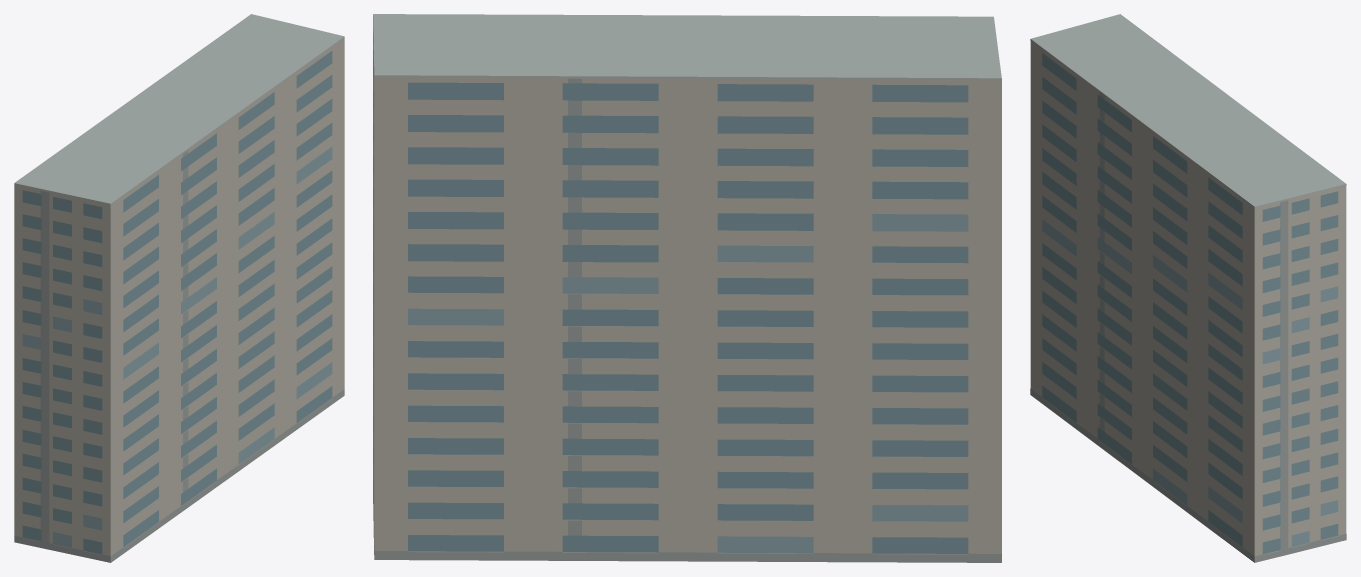
Rendered from residential-37f625d8-18e9-45f6-abdc-1c14d5a030ed.glb.
The picture shows the model from 3 angles, left to right: view 1: azimuth 30°, elevation 25°; view 2: azimuth 150°, elevation 25°; view 3: azimuth 270°, elevation 25°; orthographic projection. The views are drawn at different scales.
Parts seen in each view (by area): view 1: residential-37f625d8-18e9-45f6-abdc-1c14d5a030ed.tmp; view 2: residential-37f625d8-18e9-45f6-abdc-1c14d5a030ed.tmp; view 3: residential-37f625d8-18e9-45f6-abdc-1c14d5a030ed.tmp.
Part boxes in pixels (box(x1,y1,x2,y2)): residential-37f625d8-18e9-45f6-abdc-1c14d5a030ed.tmp: box(14, 14, 344, 562); residential-37f625d8-18e9-45f6-abdc-1c14d5a030ed.tmp: box(373, 14, 1001, 562); residential-37f625d8-18e9-45f6-abdc-1c14d5a030ed.tmp: box(1030, 14, 1346, 562).
Size of the model in its own units: 53.09 by 45.75 by 36.79.
